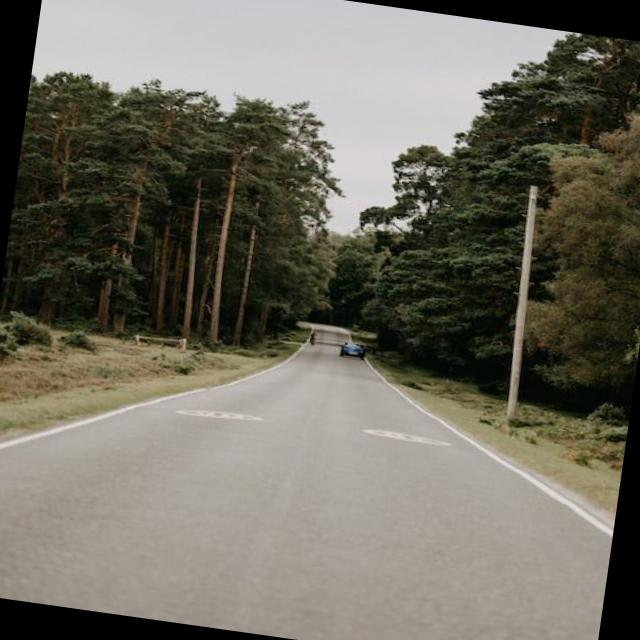asphalt: (0, 326, 614, 640)
grass: (371, 354, 628, 516), (0, 329, 305, 435)
